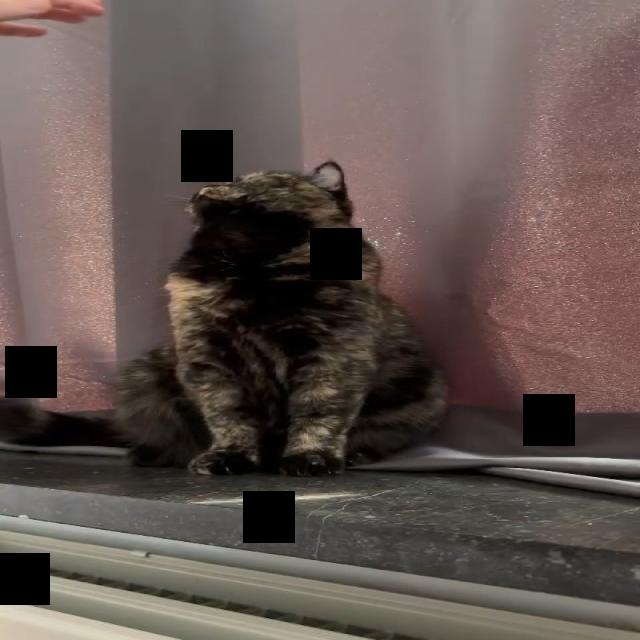authorized: (109, 158, 451, 477)
